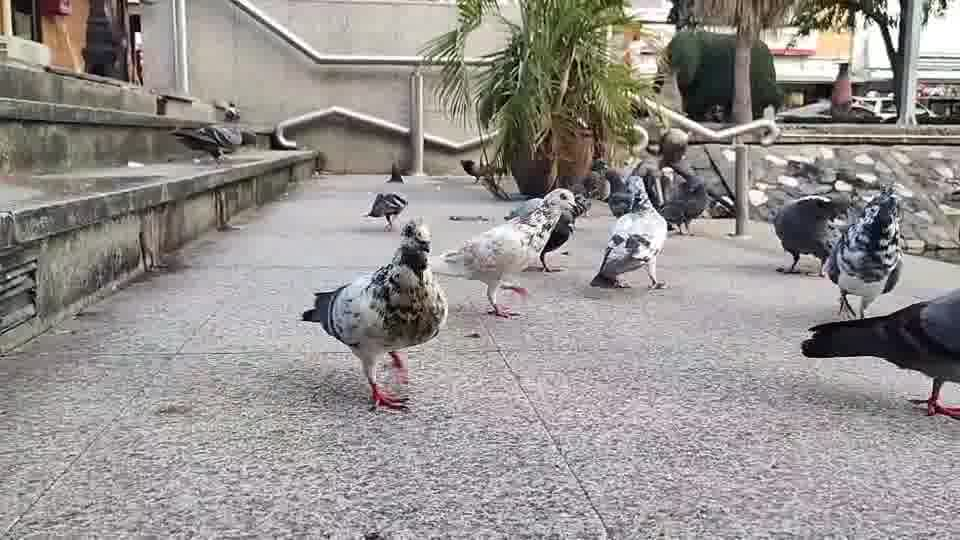Pigeon: (300, 216, 448, 412), (800, 286, 959, 419), (438, 201, 573, 319), (822, 184, 905, 320), (589, 173, 668, 290), (504, 187, 582, 272), (766, 193, 845, 275), (658, 164, 709, 236), (168, 124, 242, 166), (359, 190, 408, 231), (459, 158, 496, 183), (214, 99, 240, 121), (383, 161, 406, 183)
